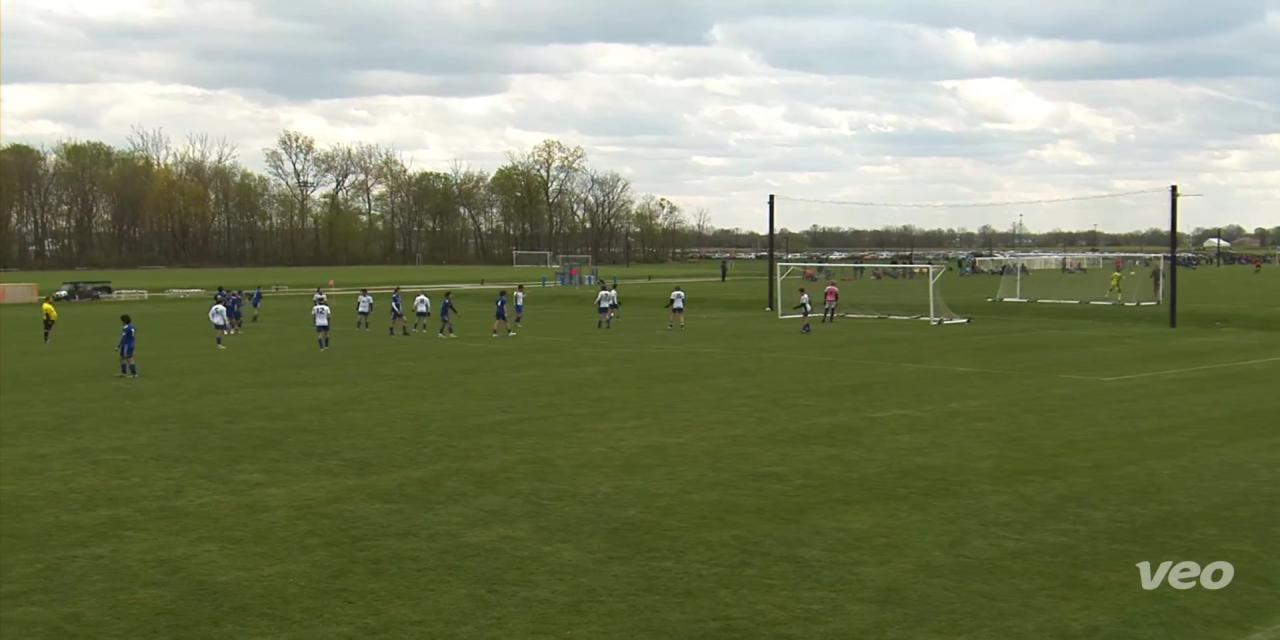goal: (760, 255, 987, 332)
